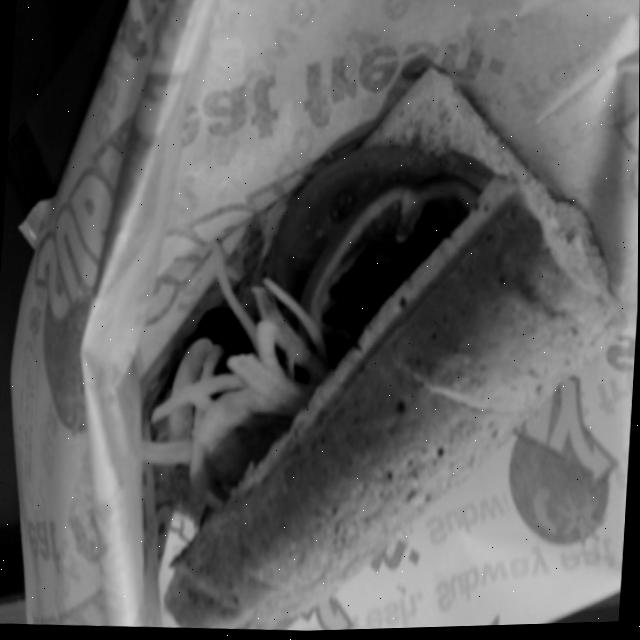三明治: (104, 79, 614, 637)
